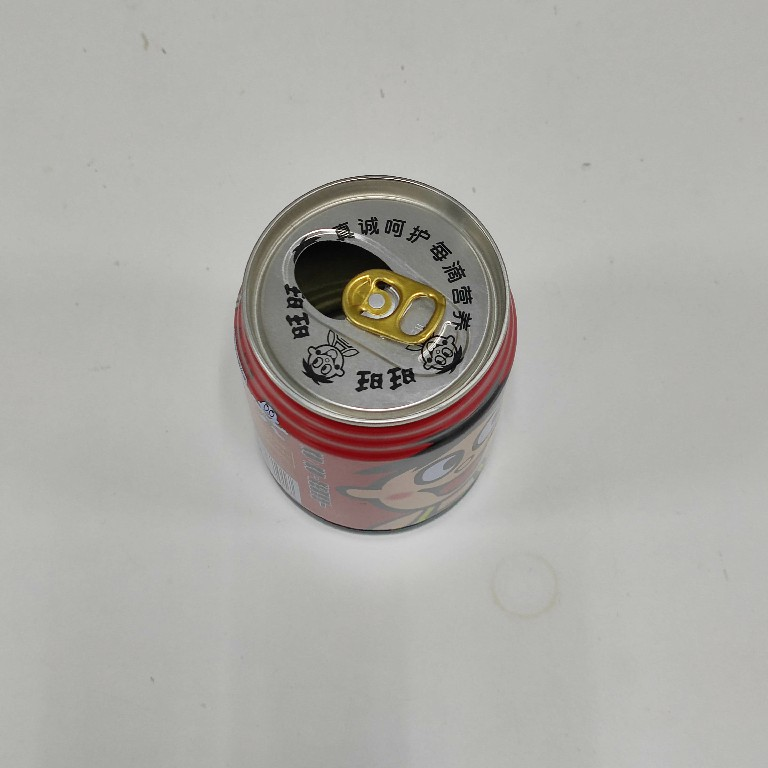can: (225, 168, 520, 538)
